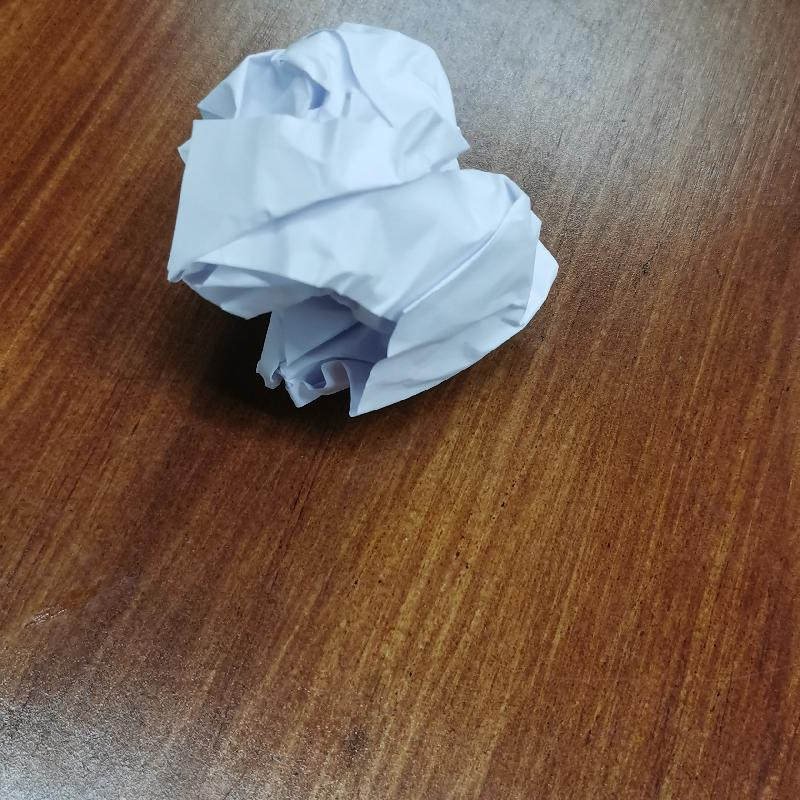spitball: (163, 24, 561, 424)
